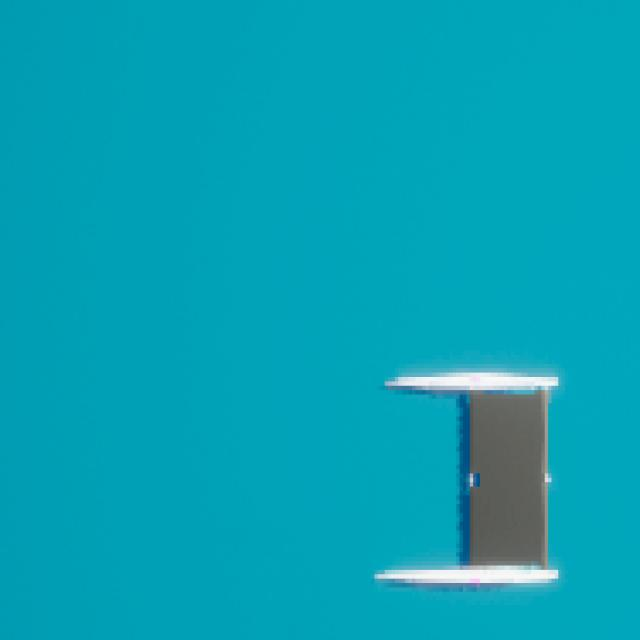boat: (378, 358, 566, 608)
drone: (472, 396, 546, 564)
